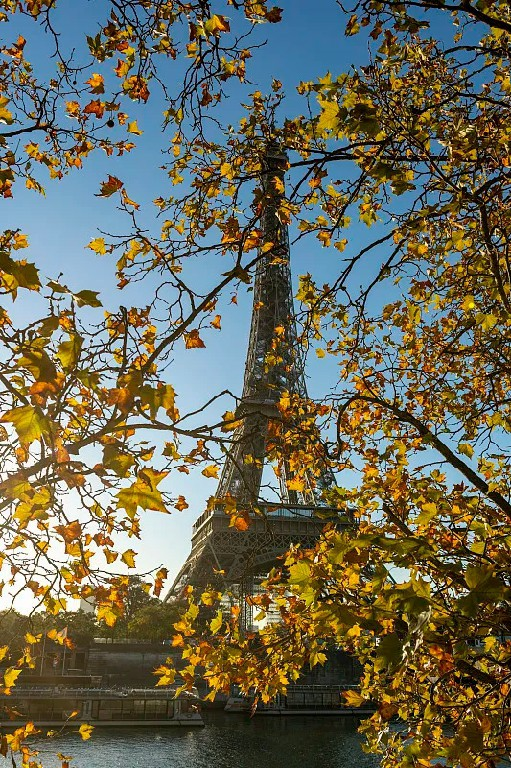Eiffel: (163, 105, 403, 643)
